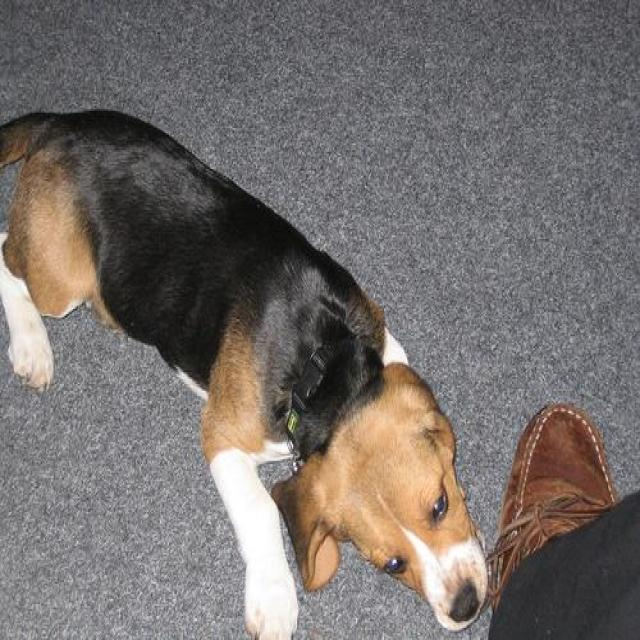beagle: (0, 99, 497, 638)
